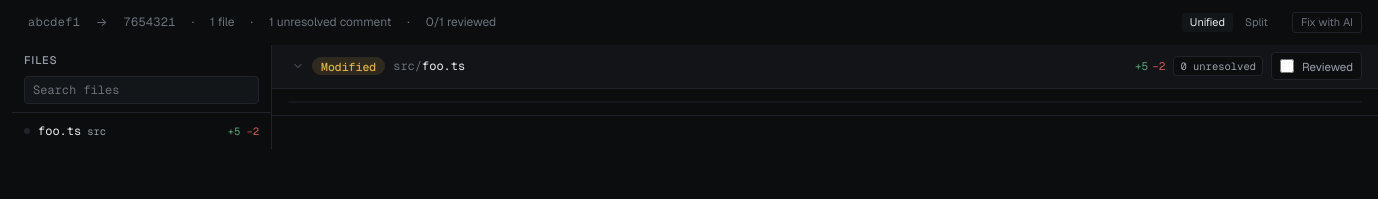
Test case: ChangesTab › toggles reviewed state and starts Fix with AI with unresolved comments
Click the checkbox named "Mark src/foo.ts as reviewed". click: (1287, 66)
box: [1280, 59, 1294, 73]
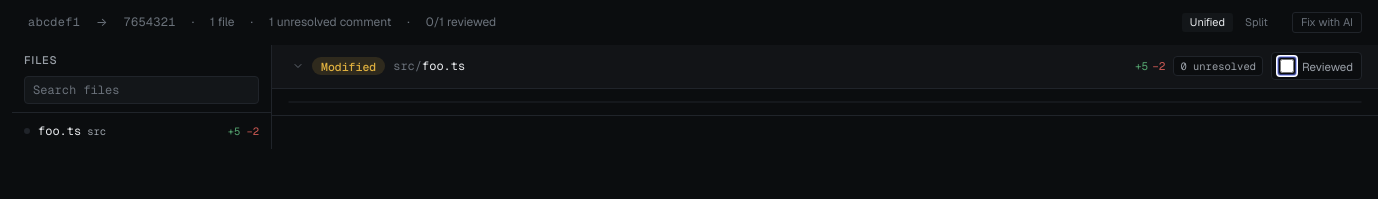
Click the button "Fix with AI". click: (1327, 22)
box: [1292, 12, 1362, 33]
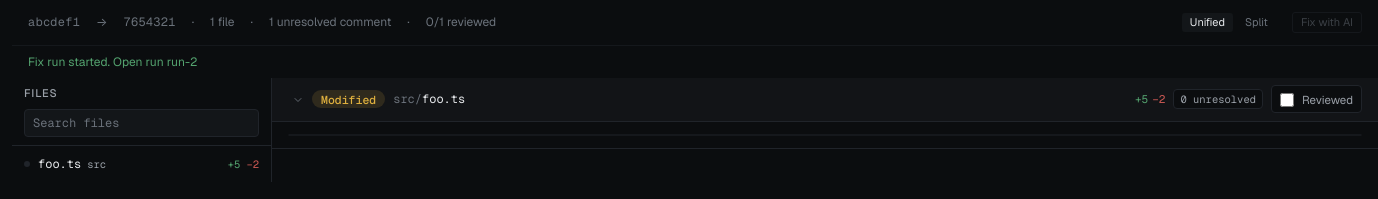
Now the message shows "Fix run started.", box [28, 54, 110, 70]
Now the button "Fix with AI" is disabled, box [1292, 12, 1362, 33]
